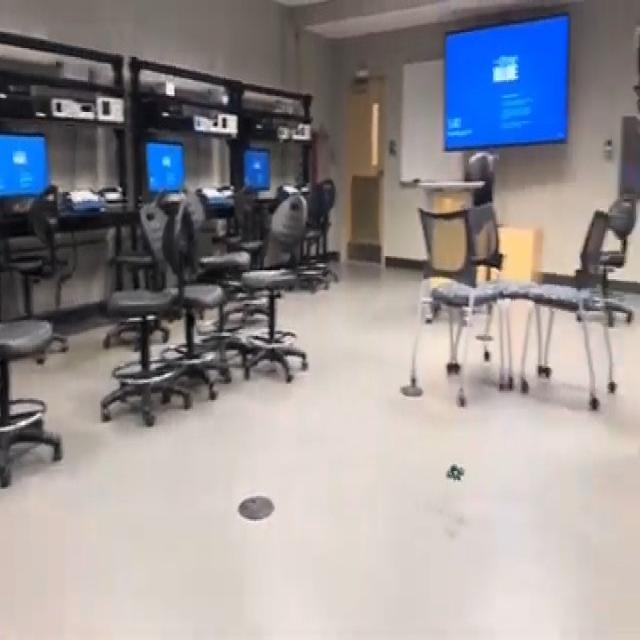drone: (434, 440, 475, 505)
